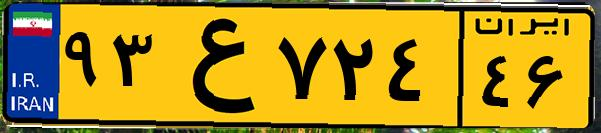2: (330, 28, 385, 110)
3: (110, 28, 158, 98)
4: (385, 28, 445, 110), (475, 38, 525, 113)
6: (525, 38, 570, 115)
7: (270, 28, 330, 110)
9: (57, 26, 110, 100)
ع: (158, 12, 270, 120)
